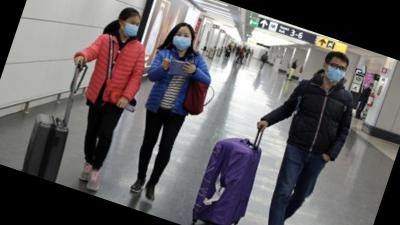with_mask: (323, 59, 349, 86), (170, 29, 195, 54), (120, 15, 142, 40), (370, 85, 374, 92), (265, 52, 269, 55), (239, 45, 242, 49), (238, 46, 241, 49), (252, 49, 254, 52), (230, 44, 231, 46), (249, 47, 250, 49)
without_mask: (296, 60, 299, 63)
